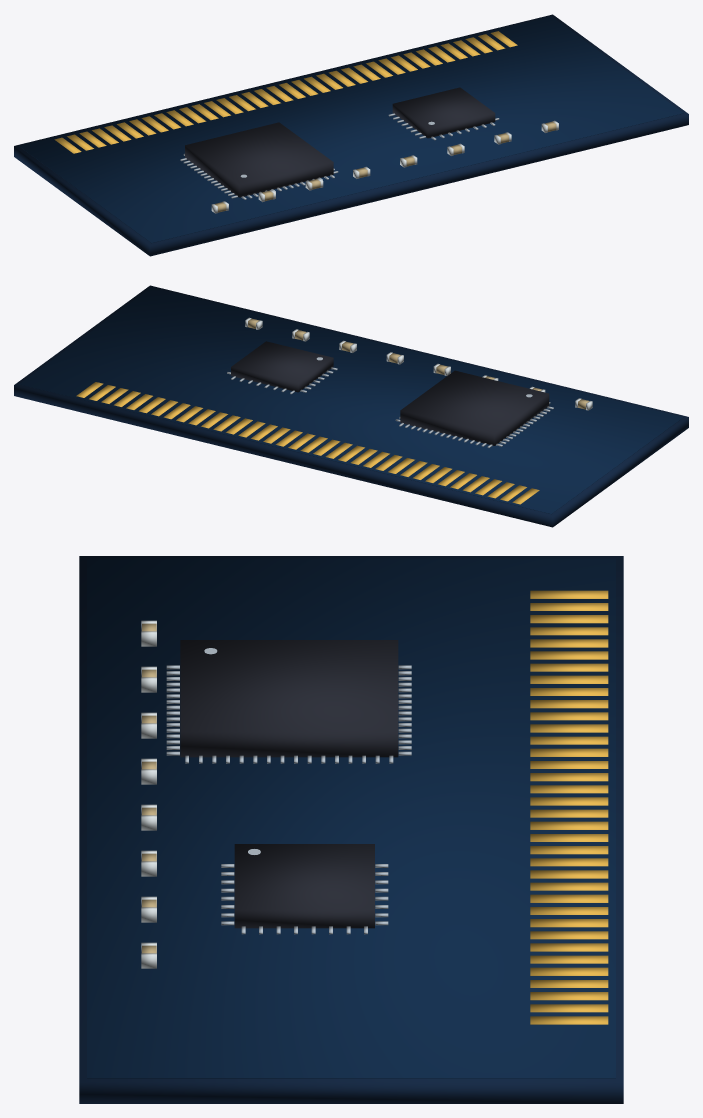
Rendered from 110_L105_ECX4_RemovableCard.fbx.
The picture shows the model from 3 angles, top to bottom: view 1: azimuth 30°, elevation 25°; view 2: azimuth 150°, elevation 25°; view 3: azimuth 270°, elevation 25°; orthographic projection. The views are drawn at different scales.
Visible parts, largest first — view 1: ECX4_RemovableCard_mask, ECX4_RemovableCard_pcb, ECX4_RemovableCard_chip, ECX4_RemovableCard_gold, ECX4_RemovableCard_silver, ECX4_RemovableCard_tin, ECX4_RemovableCard_ceramic; view 2: ECX4_RemovableCard_mask, ECX4_RemovableCard_pcb, ECX4_RemovableCard_chip, ECX4_RemovableCard_gold, ECX4_RemovableCard_silver, ECX4_RemovableCard_tin, ECX4_RemovableCard_ceramic; view 3: ECX4_RemovableCard_mask, ECX4_RemovableCard_chip, ECX4_RemovableCard_gold, ECX4_RemovableCard_pcb, ECX4_RemovableCard_silver, ECX4_RemovableCard_tin, ECX4_RemovableCard_ceramic.
Boxes of the visible parts, left/top/right/bottom form: ECX4_RemovableCard_mask: left=19, top=16, right=683, bottom=243; ECX4_RemovableCard_pcb: left=14, top=14, right=688, bottom=256; ECX4_RemovableCard_chip: left=185, top=87, right=495, bottom=197; ECX4_RemovableCard_gold: left=54, top=31, right=517, bottom=153; ECX4_RemovableCard_silver: left=180, top=113, right=499, bottom=199; ECX4_RemovableCard_tin: left=211, top=120, right=558, bottom=213; ECX4_RemovableCard_ceramic: left=215, top=121, right=556, bottom=212; ECX4_RemovableCard_mask: left=19, top=287, right=683, bottom=514; ECX4_RemovableCard_pcb: left=14, top=285, right=688, bottom=527; ECX4_RemovableCard_chip: left=231, top=341, right=549, bottom=445; ECX4_RemovableCard_gold: left=76, top=382, right=539, bottom=504; ECX4_RemovableCard_silver: left=227, top=357, right=553, bottom=447; ECX4_RemovableCard_tin: left=245, top=317, right=592, bottom=410; ECX4_RemovableCard_ceramic: left=248, top=318, right=589, bottom=409; ECX4_RemovableCard_mask: left=87, top=558, right=615, bottom=1078; ECX4_RemovableCard_chip: left=180, top=640, right=398, bottom=928; ECX4_RemovableCard_gold: left=530, top=590, right=608, bottom=1024; ECX4_RemovableCard_pcb: left=79, top=556, right=623, bottom=1103; ECX4_RemovableCard_silver: left=166, top=648, right=411, bottom=934; ECX4_RemovableCard_tin: left=141, top=620, right=156, bottom=968; ECX4_RemovableCard_ceramic: left=142, top=623, right=156, bottom=953.
Size of the model in its own units: 0.08 by 0.00368 by 0.035.
